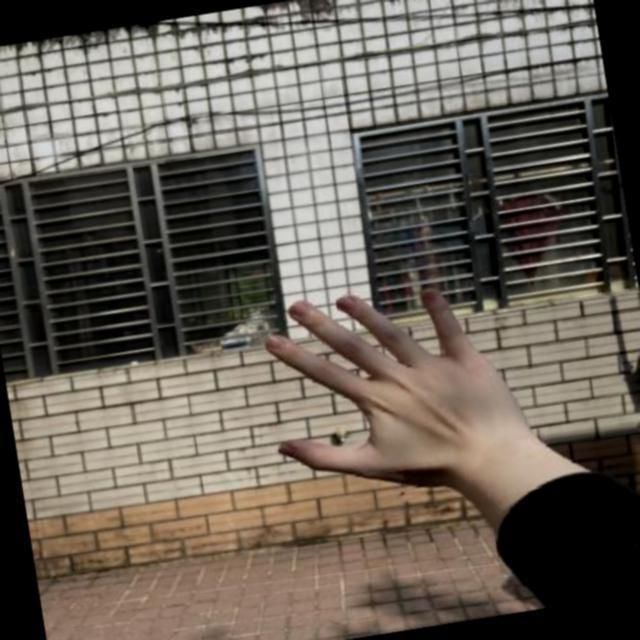hand: (245, 255, 536, 519)
